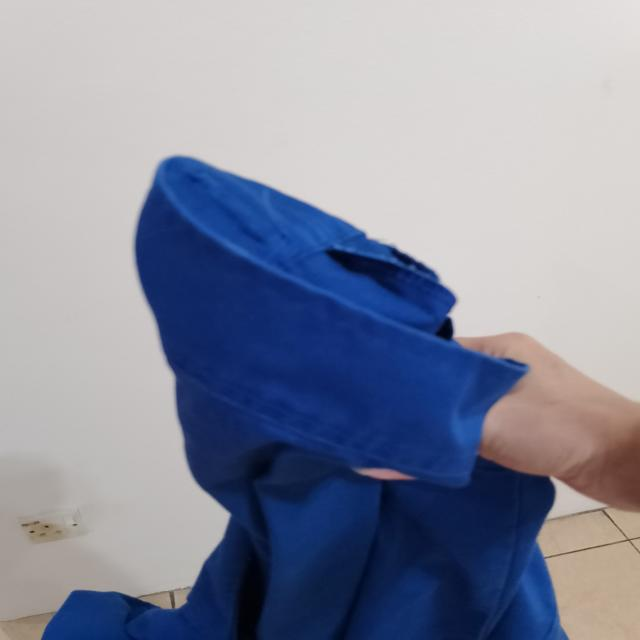person_without_labcoat: (43, 157, 640, 640)
